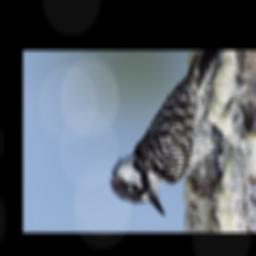Woodpecker: (108, 53, 252, 221)
